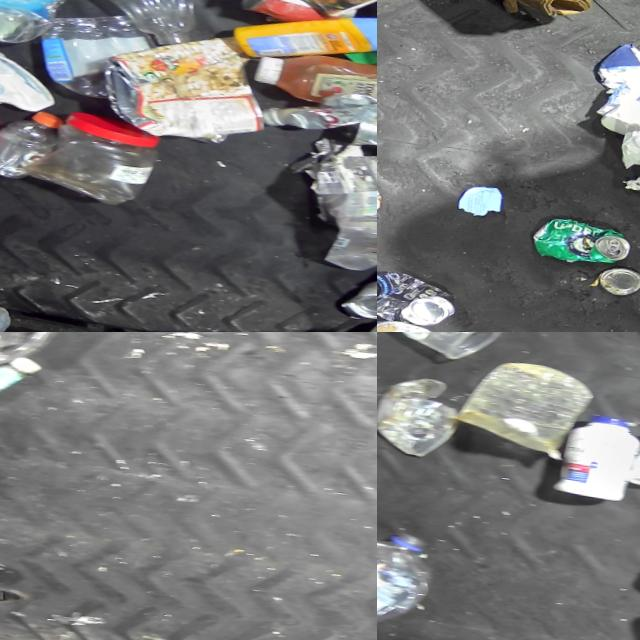can: (532, 214, 636, 268), (377, 264, 461, 329), (238, 0, 363, 29), (340, 274, 377, 323), (598, 265, 640, 297), (377, 317, 456, 332), (345, 115, 377, 152)
non_white_jug: (0, 332, 83, 372)
plastic_bottle: (52, 0, 213, 48), (377, 520, 441, 638), (0, 103, 66, 183), (0, 0, 93, 50), (0, 351, 47, 405)
